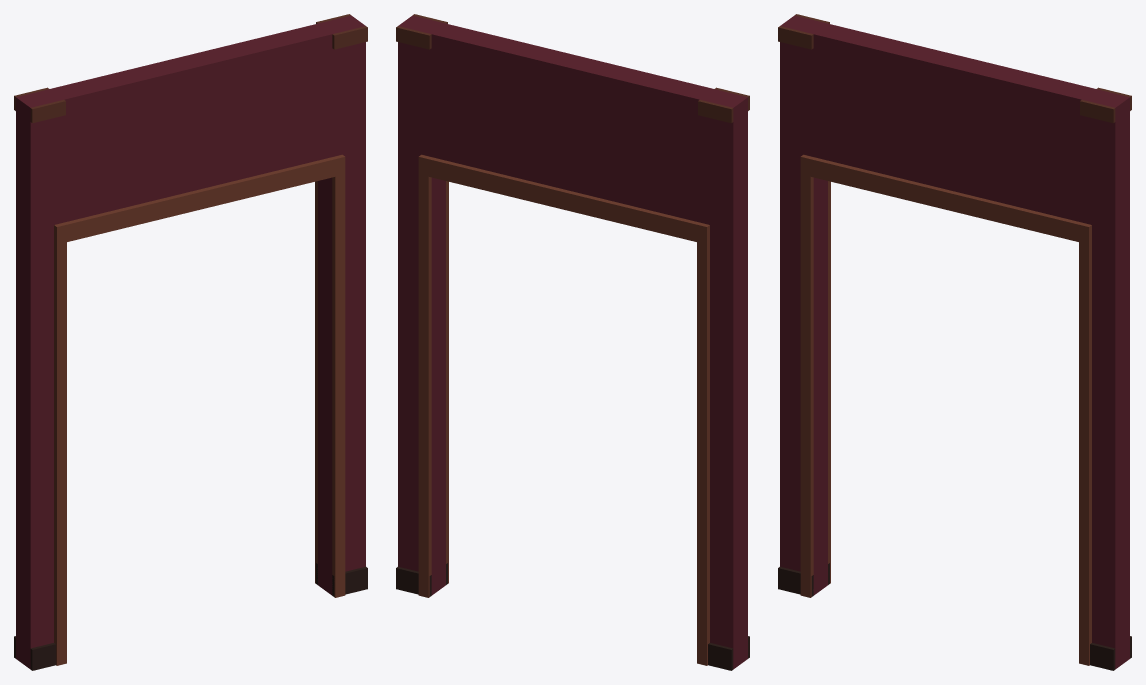
The model's file is SM_ENV_ParedePortaDupla.fbx.
3 views of the same model, side by side, from view 1: azimuth 30°, elevation 25°; view 2: azimuth 150°, elevation 25°; view 3: azimuth 330°, elevation 25° (orthographic).
Parts seen in each view (by area): view 1: SM_ENV_ParedePortaDupla; view 2: SM_ENV_ParedePortaDupla; view 3: SM_ENV_ParedePortaDupla.
Boxes of the visible parts, box(x1,y1,x2,y2) form: SM_ENV_ParedePortaDupla: box(14, 14, 367, 670); SM_ENV_ParedePortaDupla: box(396, 14, 749, 670); SM_ENV_ParedePortaDupla: box(778, 14, 1131, 670).
Size of the model in its own units: 2 by 3.2 by 0.21.
